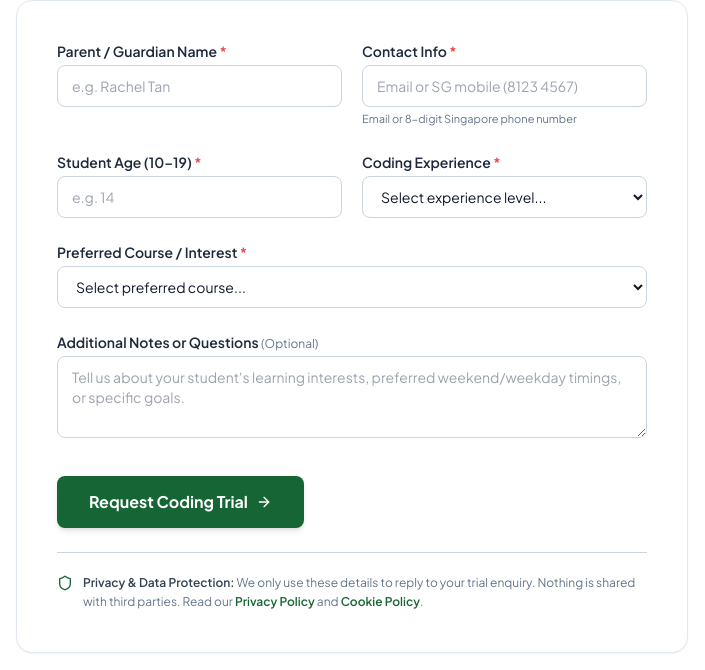
Test: TrialEnquiryForm Component & Accessibility Tests › displays verified delivery confirmation with 24h timeline when backend returns DELIVERED
Type "Rachel Tan" into the field labelled "Parent / Guardian Name *" at (200, 86), box [57,65,342,107]
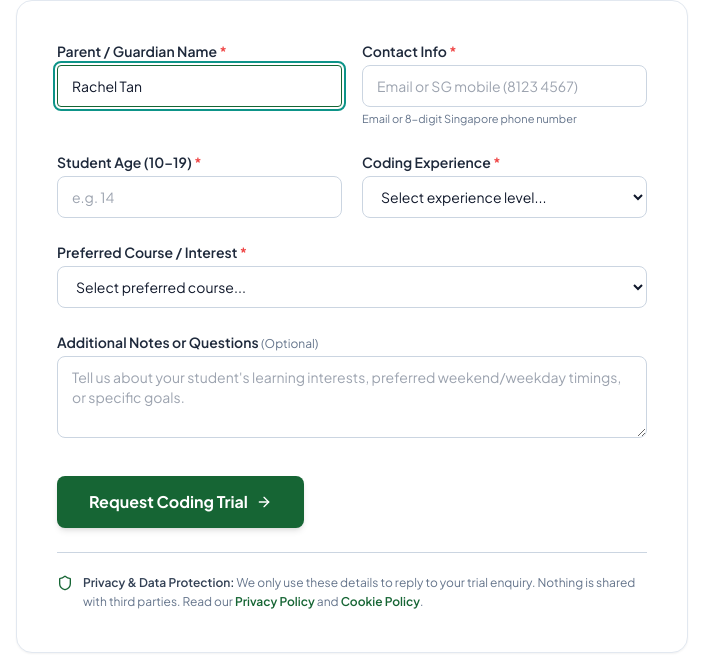
Type "parent@example.com" into the field labelled "Contact Info *" at (504, 86), box [362,65,647,107]
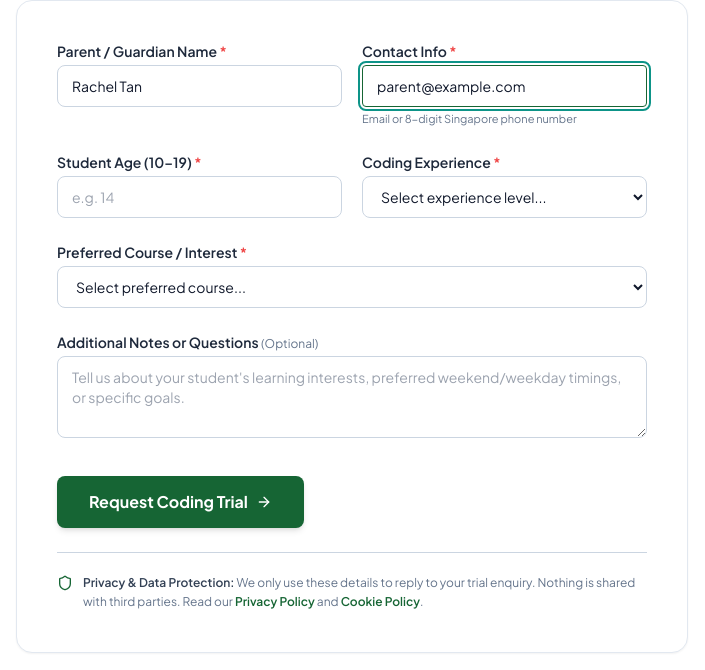
Type "15" into the number field labelled "Student Age (10–19) *" at (200, 196), box [57,176,342,218]
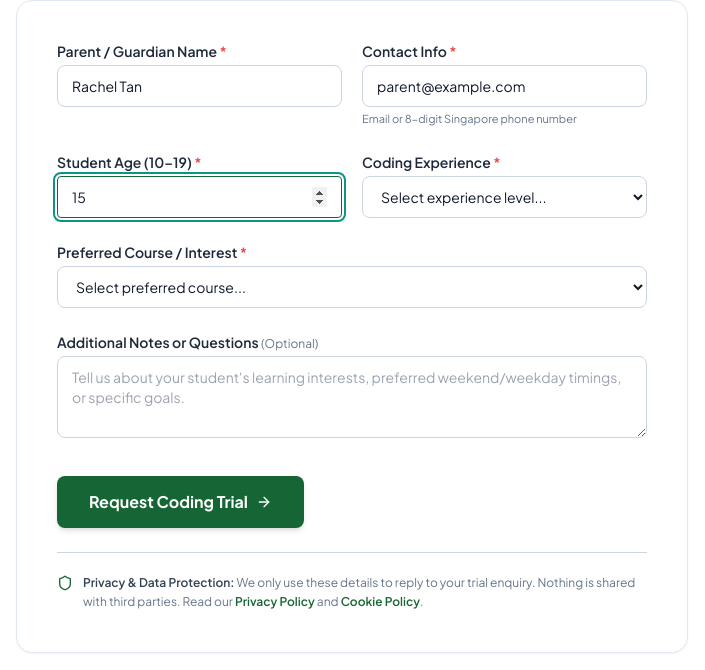
Select "Some Self-Taught Python or Web Basics" in the dropdown labelled "Coding Experience *" at (504, 196), box [362,176,647,218]
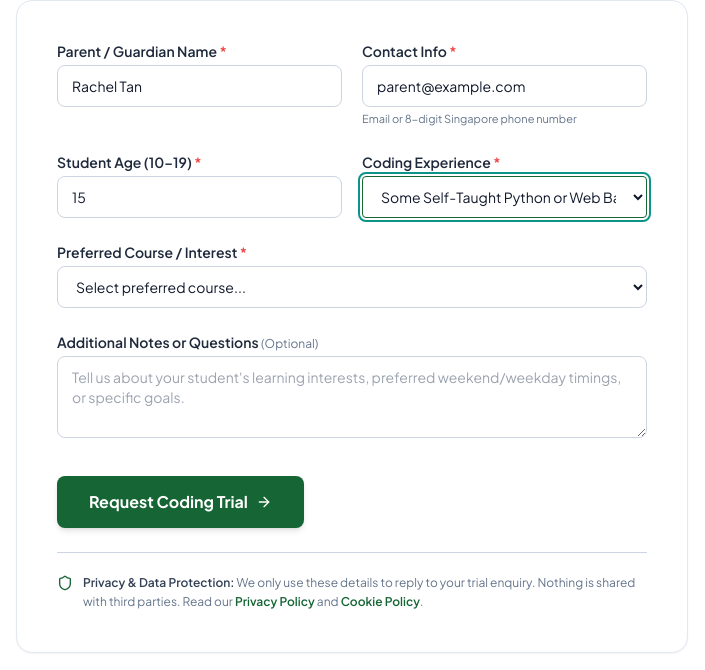
Select "Introductory Web Development" in the dropdown labelled "Preferred Course / Interest *" at (352, 286), box [57,266,647,308]
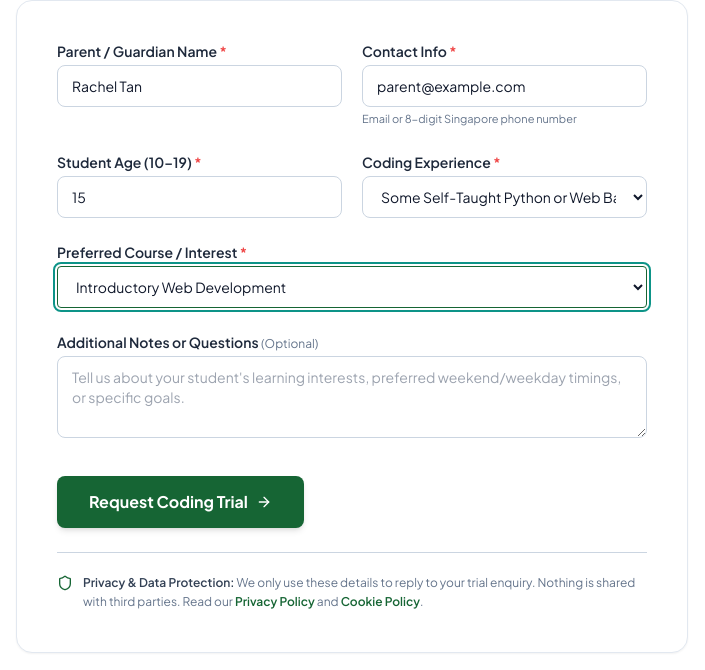
Click the button "Request Coding Trial" at (180, 502), box [57,476,304,528]
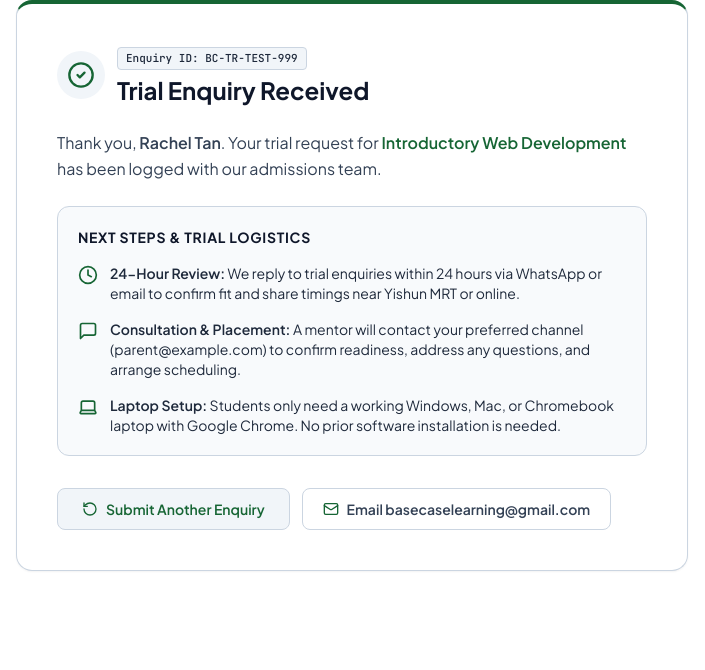
Expected: the heading "Trial Enquiry Received" is shown, [117,74,369,106]
Expected: the text "Enquiry ID: BC-TR-TEST-999" is shown, [117,47,307,70]
Expected: the text "24-Hour Review:" is shown, [110,264,228,282]
